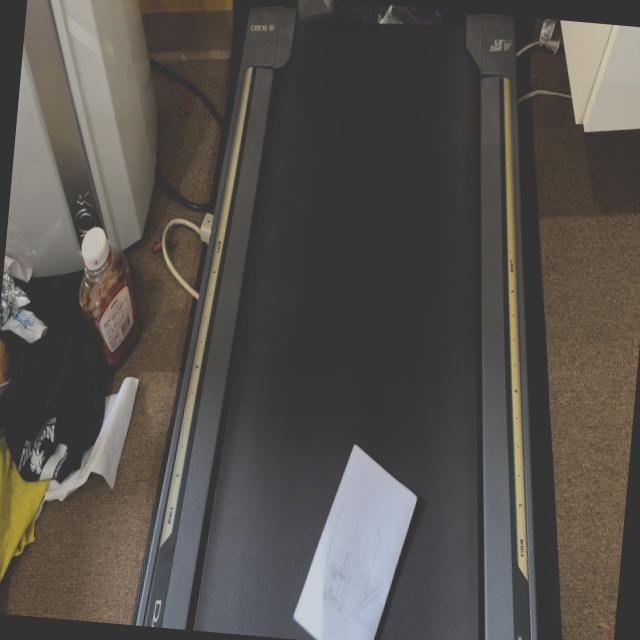Recycle: (287, 435, 424, 640)
